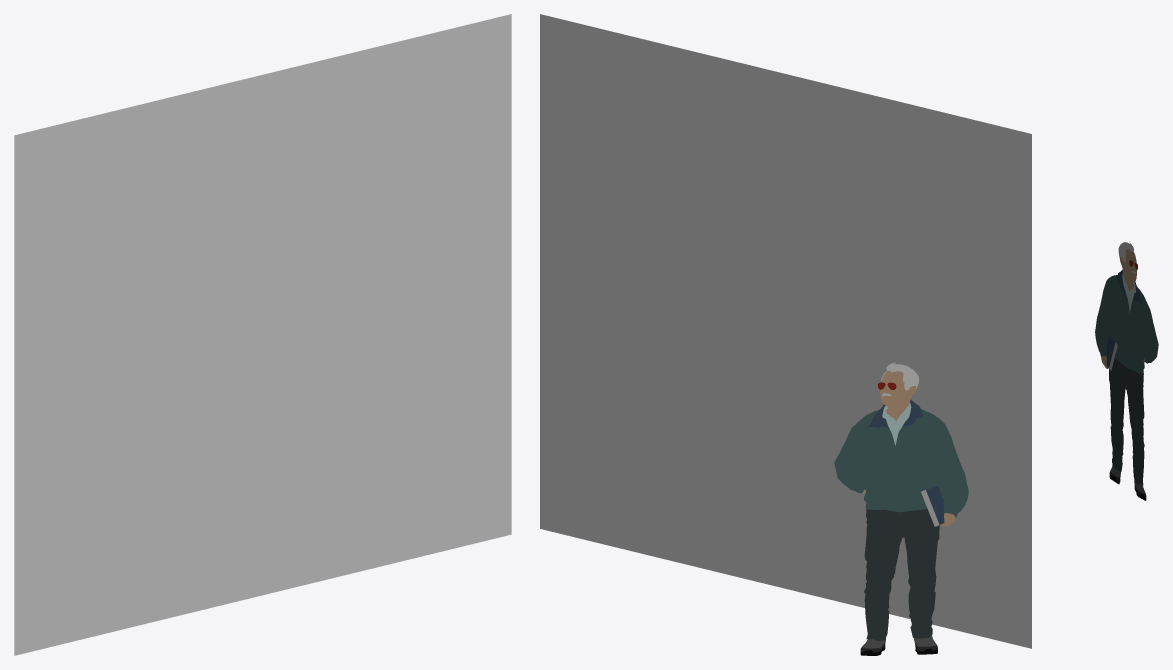
Rendered from openbox.obj.
3 renders of one model, left to right at view 1: azimuth 30°, elevation 25°; view 2: azimuth 150°, elevation 25°; view 3: azimuth 270°, elevation 25°, orthographic. The views are drawn at different scales.
Visible parts, largest first — view 1: Mesh2 Model; view 2: Mesh2 Model, Mesh1 Steve1 Model; view 3: Mesh1 Steve1 Model.
Part boxes in pixels (<box>): Mesh2 Model: <box>14,14,511,655</box>; Mesh2 Model: <box>540,14,1031,648</box>; Mesh1 Steve1 Model: <box>834,362,968,655</box>; Mesh1 Steve1 Model: <box>1095,242,1158,500</box>.
Bounding box in the file's own units: 2.98 × 2.98 × 0.6066.
